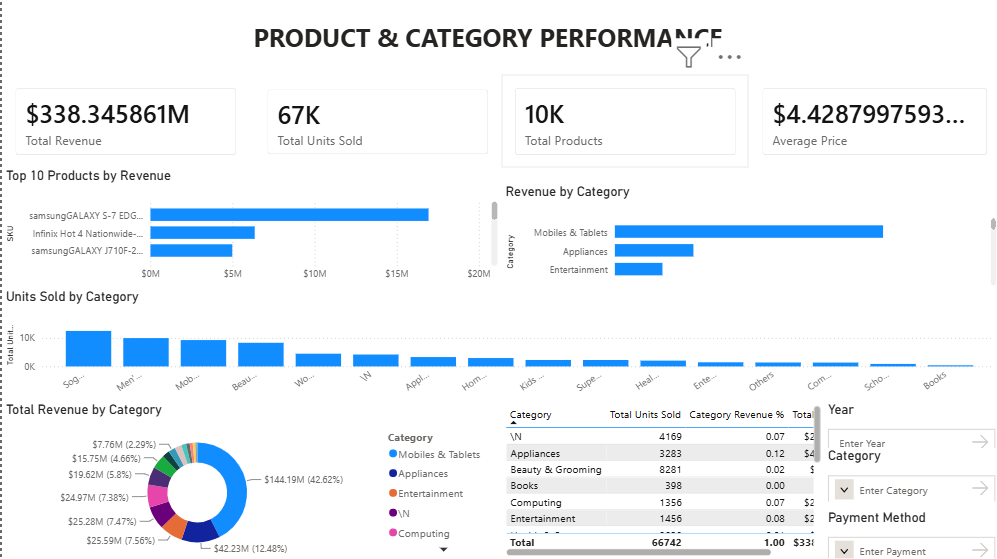

The page's visual inventory and layout, read from the dashboard file:
{"tool":"powerbi","page":{"name":"Product & Category Analysis","canvas":[1280,720],"ordinal":1},"visuals":[{"type":"textbox","box":[317.5,22.5,635,62.5],"z":0},{"type":"cardVisual","fields":{"Data":["Date Table.Total Revenue"]},"box":[0,97.5,317.5,120],"z":1000},{"type":"cardVisual","fields":{"Data":["Date Table.Total Units Sold"]},"box":[322.5,100,317.5,117.5],"z":2000},{"type":"cardVisual","fields":{"Data":["Date Table.Total Products"]},"box":[640,97.5,317.5,120],"z":3000},{"type":"cardVisual","fields":{"Data":["Date Table.Average Price"]},"box":[957.5,97.5,322.5,120],"z":4000},{"type":"clusteredBarChart","title":"Top 10 Products by Revenue","fields":{"Category":["Sales.SKU"],"Y":["Date Table.Total Revenue"]},"box":[0,217.5,640,155],"z":5000},{"type":"clusteredBarChart","title":"Revenue by Category","fields":{"Category":["Sales.Category"],"Y":["Date Table.Total Revenue"]},"box":[640,237.5,640,135],"z":6000},{"type":"clusteredColumnChart","title":"Units Sold by Category","fields":{"Category":["Sales.Category"],"Y":["Date Table.Total Units Sold"]},"box":[0,372.9,1280,144.3],"z":7000},{"type":"donutChart","fields":{"Category":["Sales.Category"],"Y":["Date Table.Total Revenue"]},"box":[0,517.1,640,202.9],"z":8000},{"type":"tableEx","fields":{"Values":["Sales.Category","Date Table.Total Units Sold","Date Table.Category Revenue %","Date Table.Total Revenue"]},"box":[640,517.1,414.3,202.9],"z":9000},{"type":"textSlicer","fields":{"Values":["Sales.Year"]},"box":[1054.3,517.1,225.7,60],"z":10000},{"type":"textSlicer","fields":{"Values":["Sales.Category"]},"box":[1054.3,577.1,225.7,68.6],"z":11000},{"type":"textSlicer","fields":{"Values":["Sales.Payment Method"]},"box":[1054.3,655.7,225.7,64.3],"z":12000}]}

Visuals, with their boxes on the page's 1280x720 design canvas (x1, y1, x2, y2). These are canvas units, not pixel positions in the 997x559 screenshot, which may show the page scaled, cropped or inside an application window:
textbox: <region>318, 22, 952, 85</region>
cardVisual - Date Table.Total Revenue: <region>0, 98, 318, 218</region>
cardVisual - Date Table.Total Units Sold: <region>322, 100, 640, 218</region>
cardVisual - Date Table.Total Products: <region>640, 98, 958, 218</region>
cardVisual - Date Table.Average Price: <region>958, 98, 1280, 218</region>
"Top 10 Products by Revenue" clusteredBarChart: <region>0, 218, 640, 372</region>
"Revenue by Category" clusteredBarChart: <region>640, 238, 1280, 372</region>
"Units Sold by Category" clusteredColumnChart: <region>0, 373, 1280, 517</region>
donutChart - Sales.Category x Date Table.Total Revenue: <region>0, 517, 640, 720</region>
tableEx - Sales.Category x Date Table.Total Units Sold: <region>640, 517, 1054, 720</region>
textSlicer - Sales.Year: <region>1054, 517, 1280, 577</region>
textSlicer - Sales.Category: <region>1054, 577, 1280, 646</region>
textSlicer - Sales.Payment Method: <region>1054, 656, 1280, 720</region>
